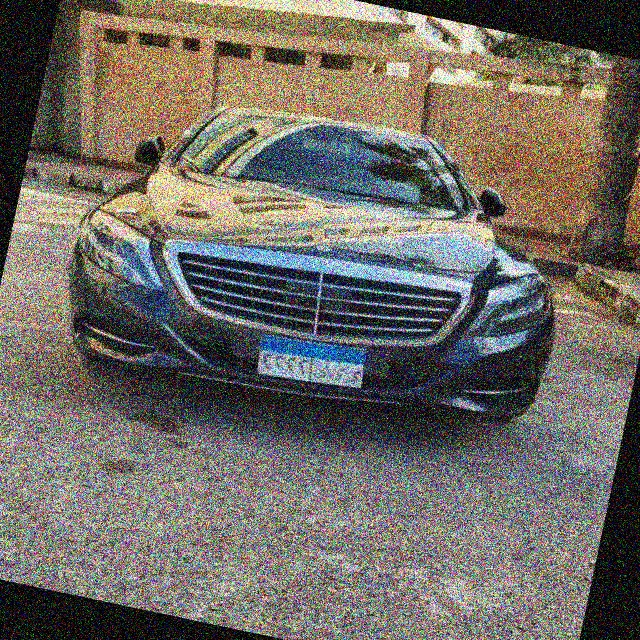License Plate: (252, 326, 371, 397)
